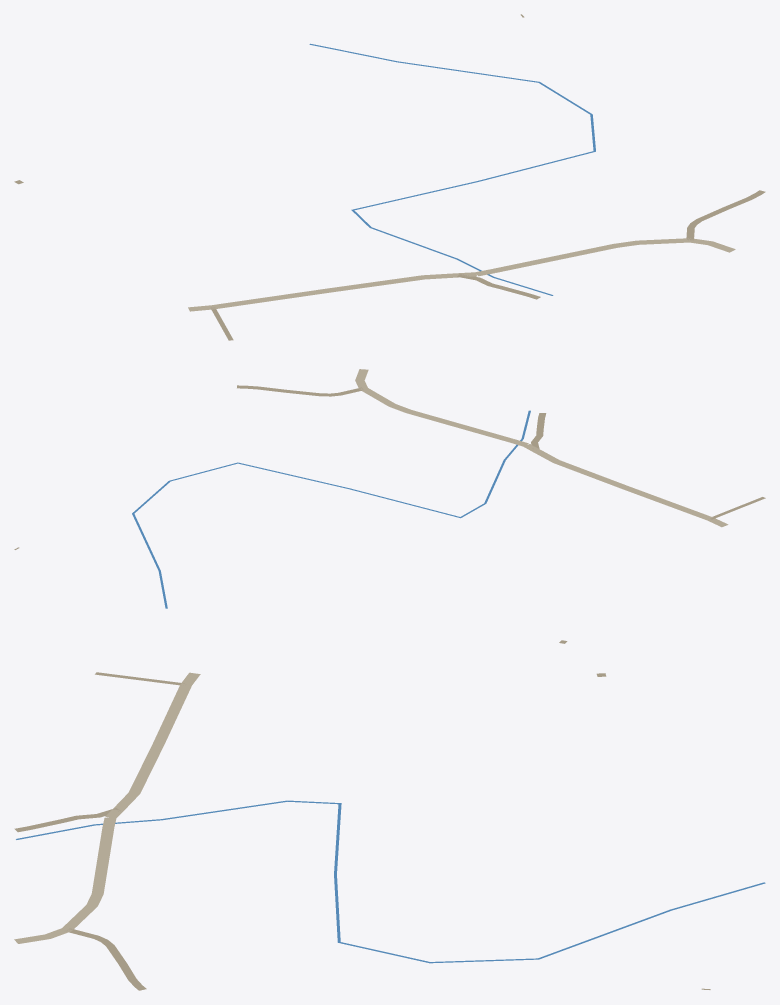
3 views of the same model, one above another, from view 1: azimuth 30°, elevation 25°; view 2: azimuth 150°, elevation 25°; view 3: azimuth 270°, elevation 25° (orthographic). The views are drawn at different scales.
Parts seen in each view (by area): view 1: ground, water; view 2: ground, water; view 3: ground, water.
Part boxes in pixels (x1,y1,x2,y2): ground: [14, 14, 765, 340]; water: [309, 43, 595, 295]; ground: [14, 369, 765, 643]; water: [132, 410, 530, 608]; ground: [14, 672, 710, 990]; water: [16, 800, 765, 963].
Size of the model in its own units: 503 by 0.7 by 502.
